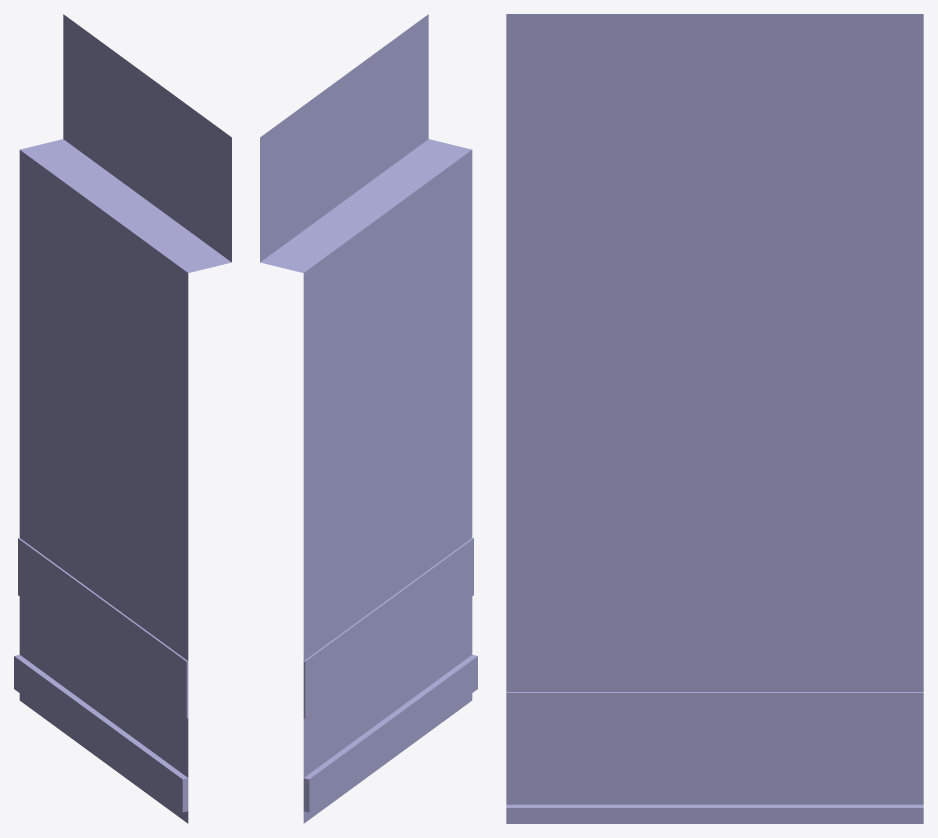
Rendered from Wand Aussen.fbx.
The picture shows the model from 3 angles, left to right: view 1: azimuth 30°, elevation 25°; view 2: azimuth 150°, elevation 25°; view 3: azimuth 270°, elevation 25°; orthographic projection. The views are drawn at different scales.
Parts seen in each view (by area): view 1: Wand Aussen 1; view 2: Wand Aussen 1; view 3: Wand Aussen 1.
Part boxes in pixels (x1,y1,x2,y2): Wand Aussen 1: (14, 14, 231, 823); Wand Aussen 1: (260, 14, 477, 823); Wand Aussen 1: (506, 14, 923, 823).
Bounding box in the file's own units: 33.68 × 442 × 200.
